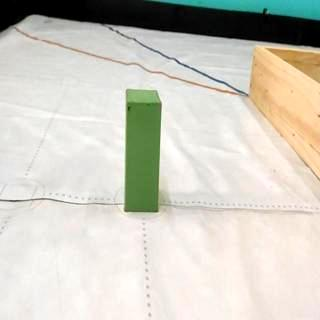greenbox: (124, 86, 165, 212)
